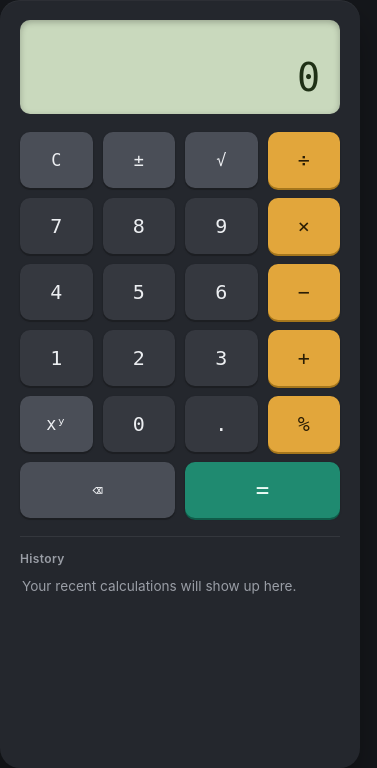
Test: Calculator (integration) › performs 6 x 7 = 42 end to end through the keypad
Click the button "6".
click(221, 292)  # box top-left (185, 264), bottom-right (258, 320)
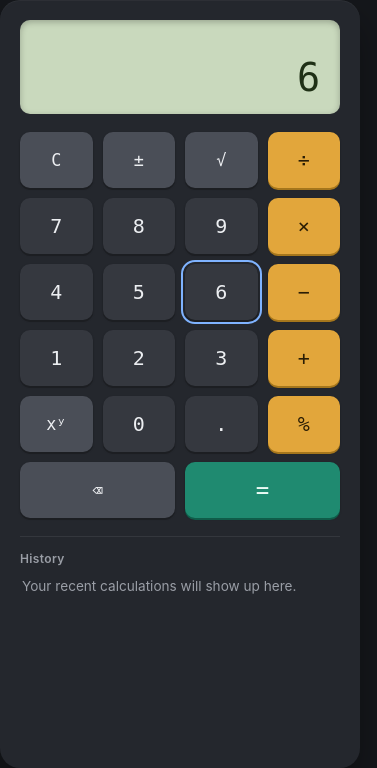
Click the button named "Multiply".
click(304, 226)  # box top-left (268, 198), bottom-right (340, 254)
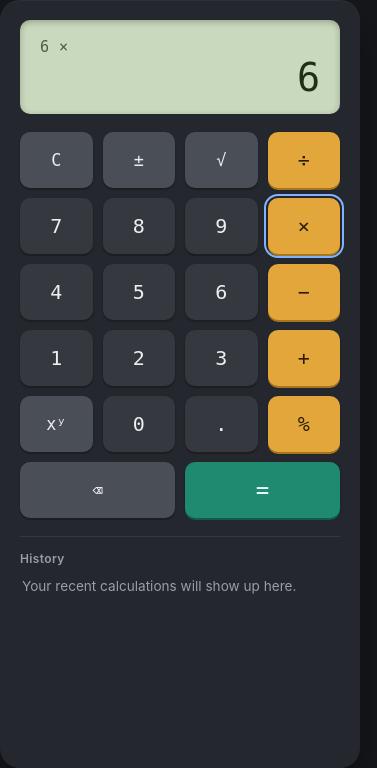
Click the button "7".
click(56, 226)  # box top-left (20, 198), bottom-right (92, 254)
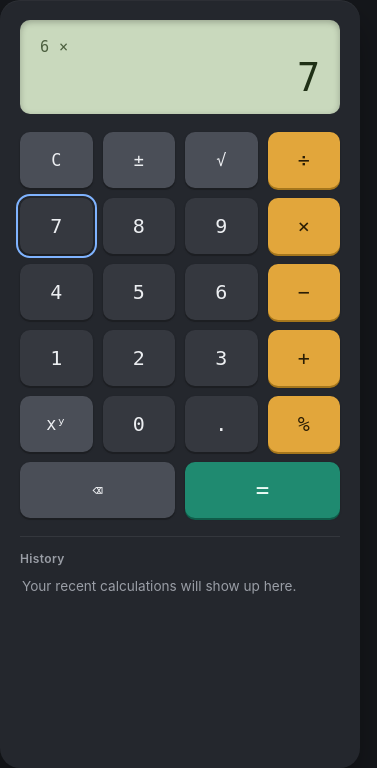
Click the button named "Equals".
click(262, 490)  # box top-left (185, 462), bottom-right (340, 518)
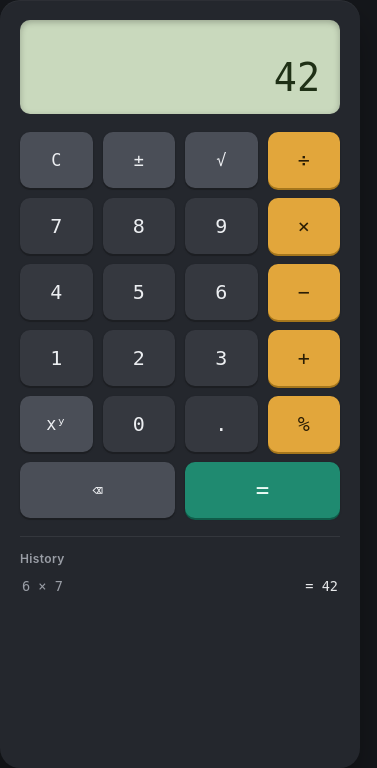
Now the message reads "42", box top-left (274, 55), bottom-right (320, 100)
